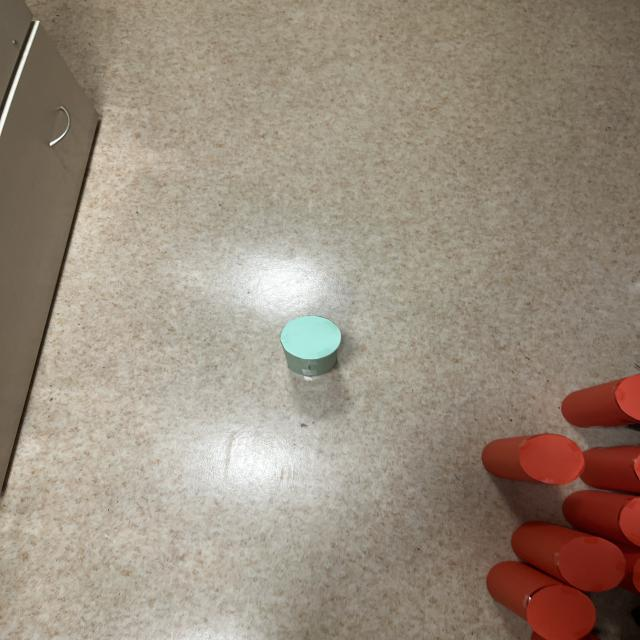meta: (280, 316, 341, 377)
